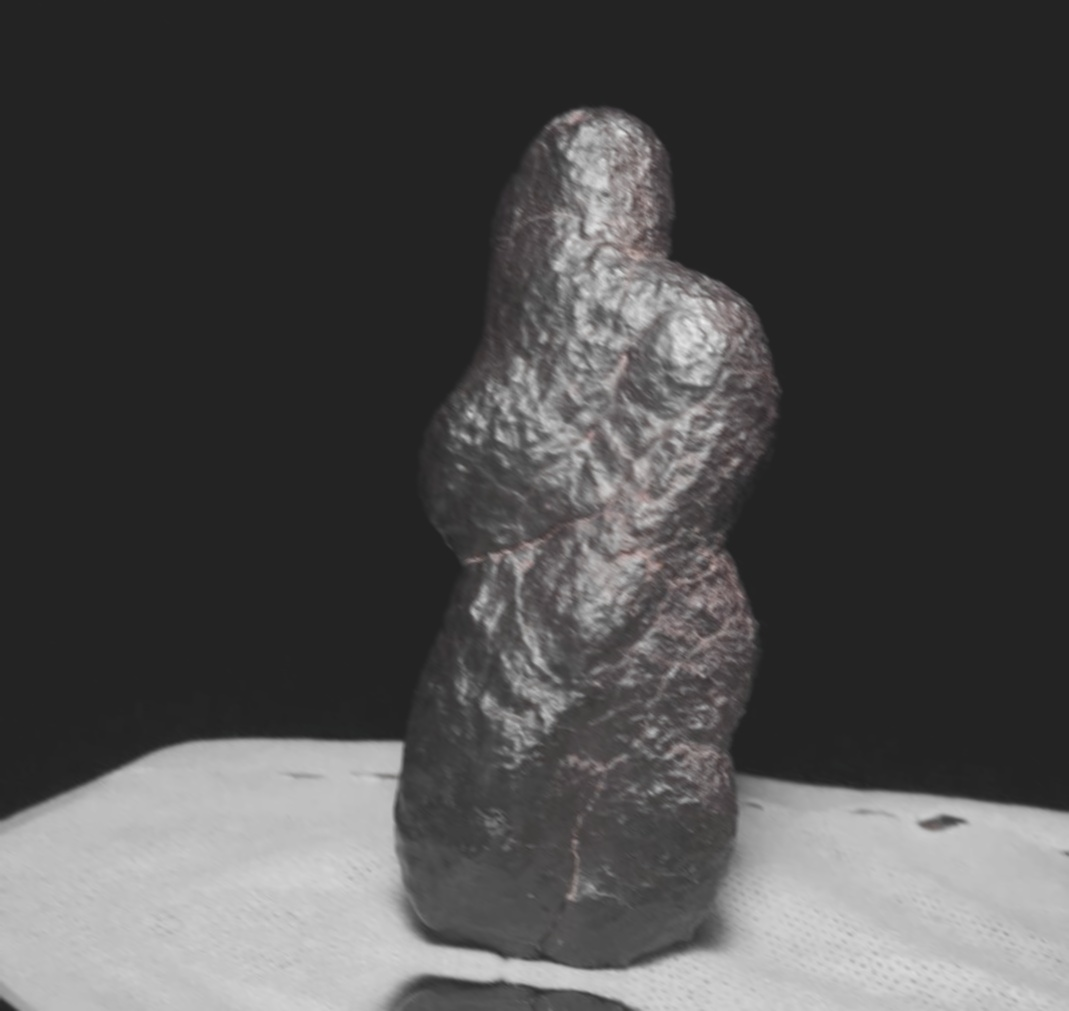halobolite: (300, 58, 901, 1007)
